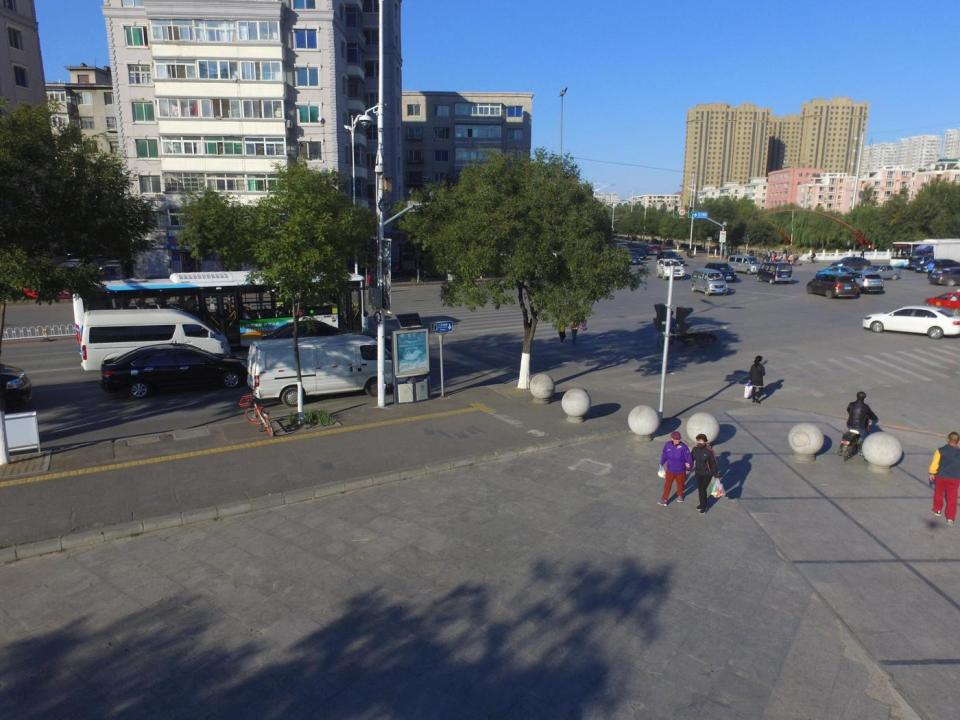bus: (68, 274, 372, 364), (890, 239, 960, 272)
car: (94, 345, 262, 391), (860, 306, 960, 338), (9, 267, 72, 300), (804, 273, 860, 298), (814, 266, 860, 287), (844, 269, 884, 293), (924, 291, 960, 317), (828, 256, 873, 276), (705, 260, 737, 284), (914, 258, 959, 275), (863, 262, 903, 280), (656, 258, 685, 280), (930, 268, 960, 287), (656, 249, 685, 268), (628, 248, 647, 263), (624, 251, 640, 266), (614, 241, 630, 255), (644, 245, 662, 257)
truck: (908, 243, 960, 270)
van: (76, 307, 231, 384), (244, 336, 406, 407), (688, 267, 730, 295), (754, 261, 797, 288), (726, 254, 763, 276)
